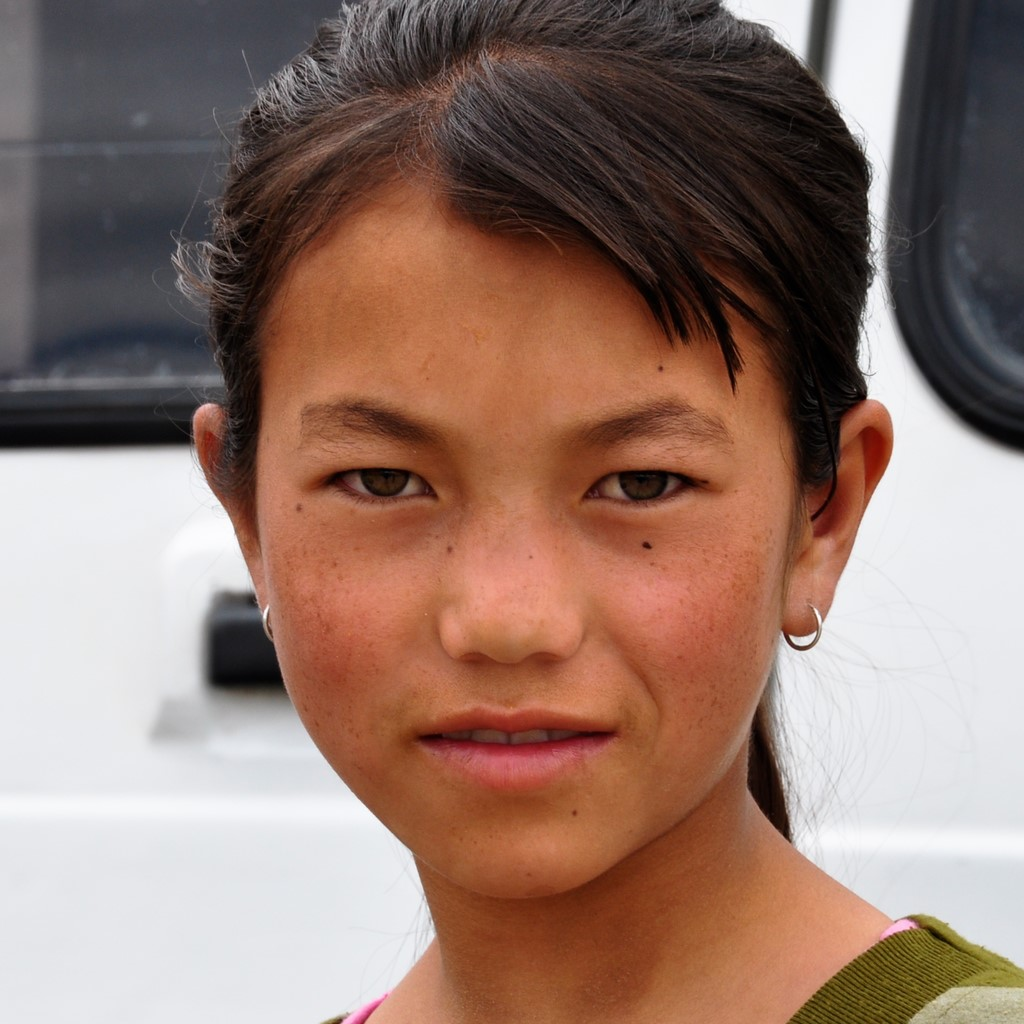sin_mascara: (197, 91, 875, 918)
